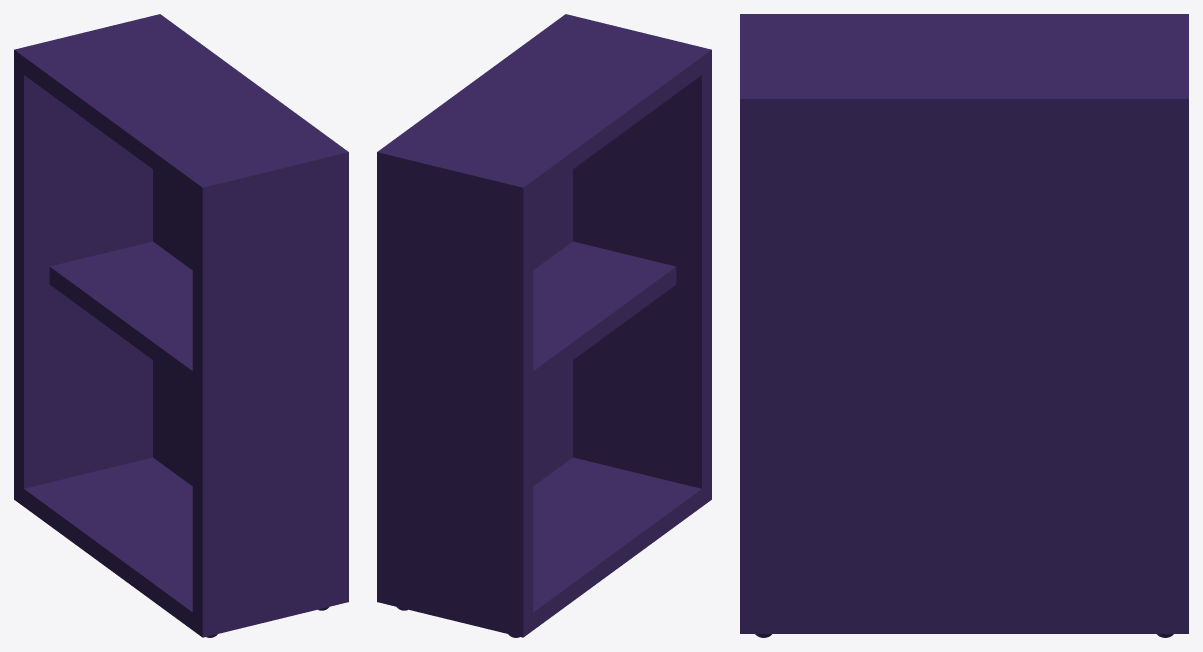
The model's file is estruturaarmario.gltf.
The picture shows the model from 3 angles, left to right: view 1: azimuth 30°, elevation 25°; view 2: azimuth 150°, elevation 25°; view 3: azimuth 270°, elevation 25°; orthographic projection. The views are drawn at different scales.
Visible parts, largest first — view 1: estrutura direita, estrutura esquerda, cima, base, fundo, prateleira; view 2: estrutura esquerda, estrutura direita, cima, base, fundo, prateleira; view 3: fundo, cima, prateleira.
Boxes of the visible parts, <box> form: estrutura direita: <box>192,164,340,619</box>; estrutura esquerda: <box>14,59,152,491</box>; cima: <box>14,16,340,205</box>; base: <box>14,457,340,637</box>; fundo: <box>144,14,348,603</box>; prateleira: <box>49,241,348,414</box>; estrutura esquerda: <box>385,164,533,619</box>; estrutura direita: <box>573,59,711,494</box>; cima: <box>385,16,711,205</box>; base: <box>394,457,711,637</box>; fundo: <box>377,14,581,605</box>; prateleira: <box>377,241,676,414</box>; fundo: <box>740,89,1188,633</box>; cima: <box>740,14,1188,93</box>; prateleira: <box>740,355,1188,376</box>.
Size of the model in its own units: 0.5312 by 1.6 by 1.19.
1 material, 1 textured.
